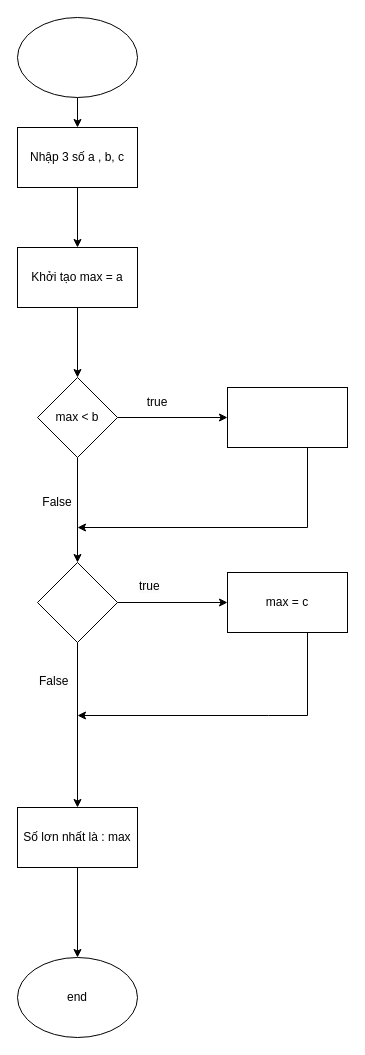
Image size: 365x1055. Some labels were removed from this diagram. Here are the shapes that lost their labels. From the top down, the centre of each, then its label:
At point (77, 57): "Start".
At point (287, 417): "max = b".
At point (77, 602): "max < c".
